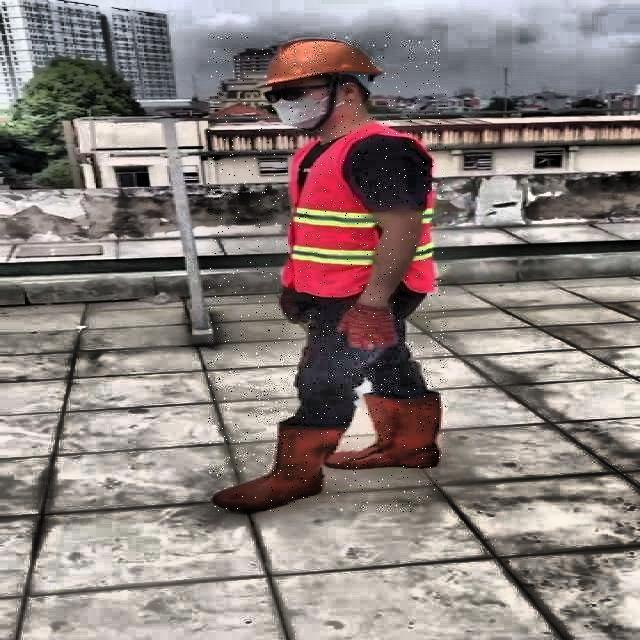safety_helmet: (262, 38, 382, 86)
safety_jacket: (282, 128, 440, 295)
